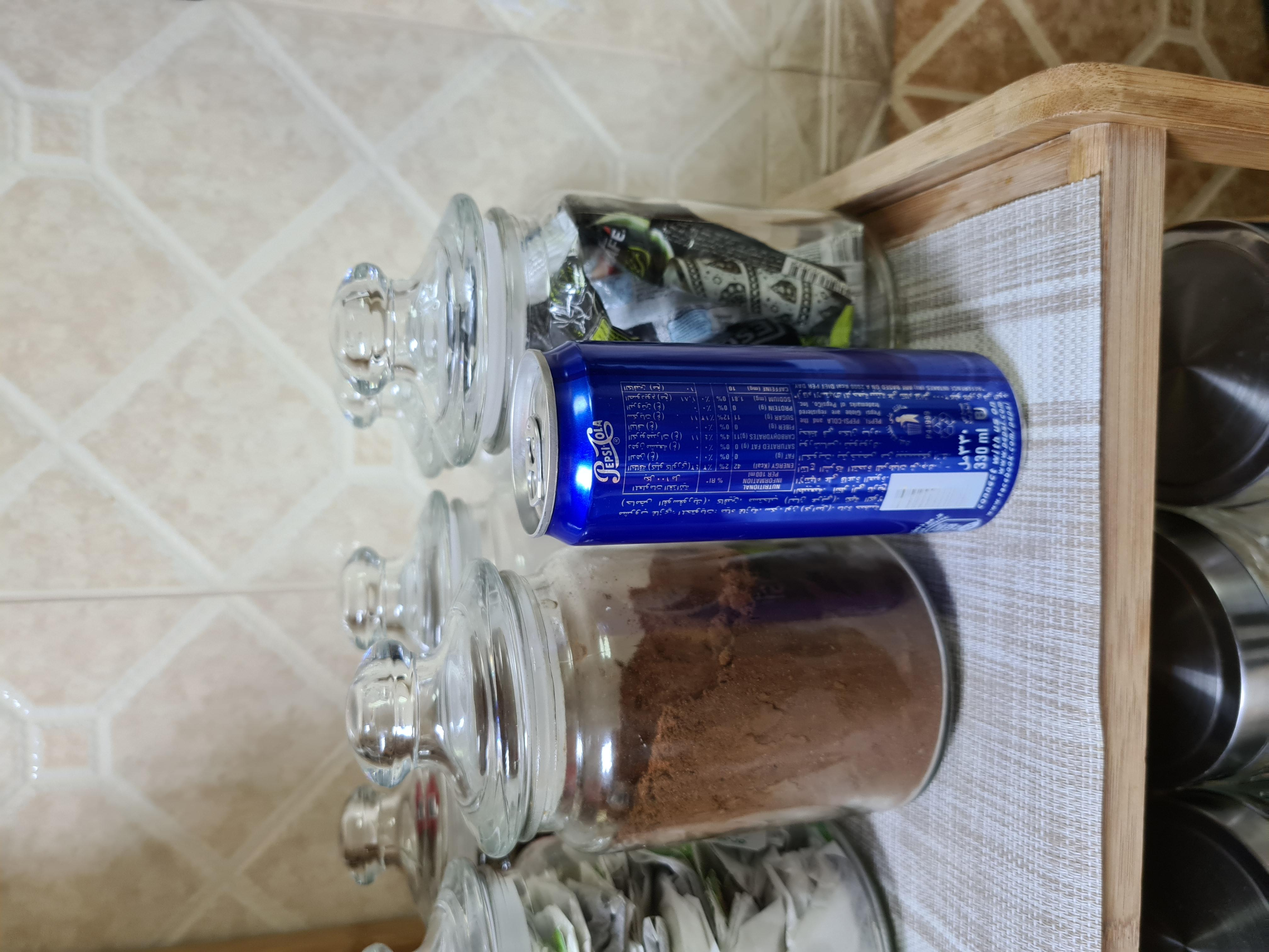debris: (499, 336, 1026, 567)
